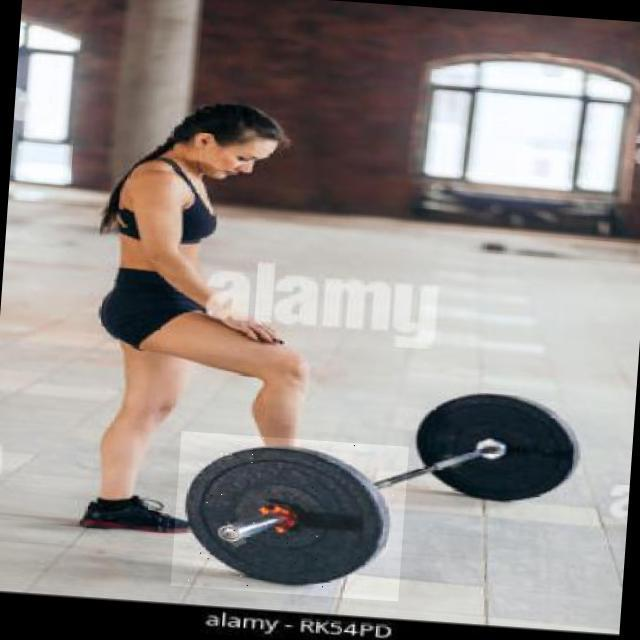barbell: (172, 432, 410, 603)
